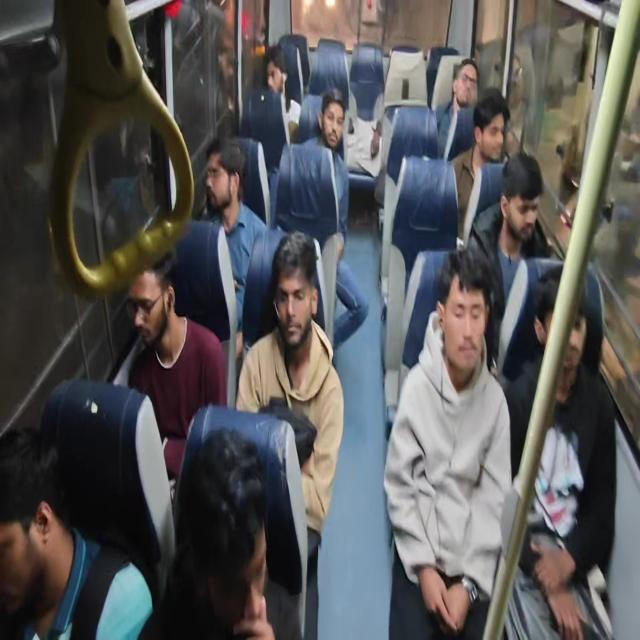person: (6, 8, 620, 638), (383, 246, 513, 638), (235, 230, 344, 638), (502, 265, 616, 639), (0, 424, 155, 639), (142, 427, 278, 639), (125, 256, 227, 488), (300, 87, 369, 344), (468, 151, 546, 371), (197, 137, 268, 351), (449, 88, 511, 247), (301, 86, 350, 264), (437, 57, 479, 159), (504, 41, 536, 158), (264, 44, 301, 144), (345, 90, 382, 176), (302, 86, 346, 158), (213, 25, 238, 137)
